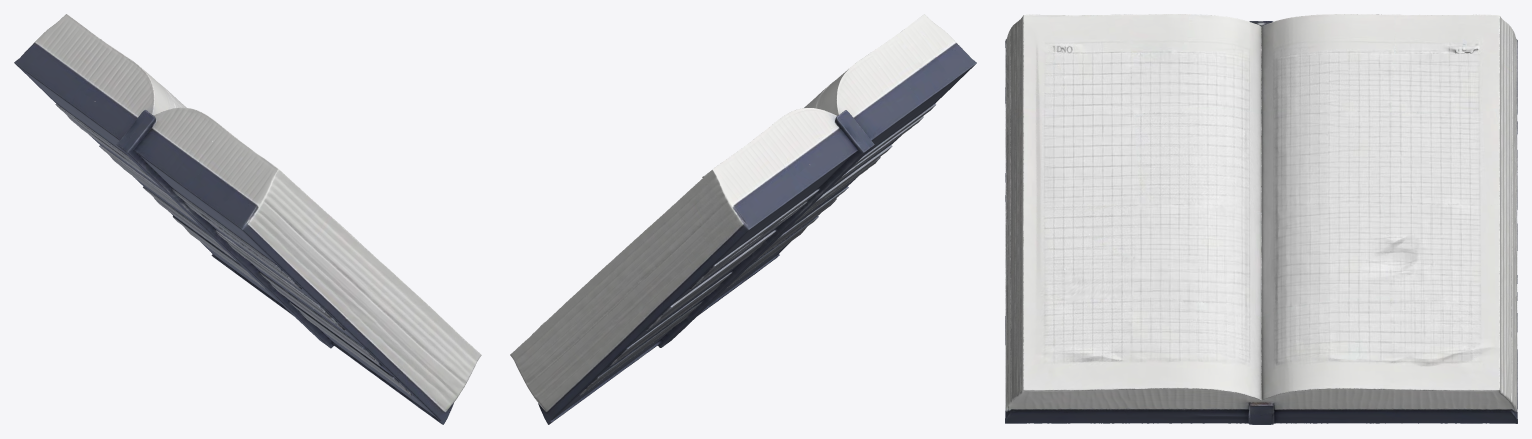
Rendered from Buku.glb.
3 views of the same model, side by side, from view 1: azimuth 30°, elevation 25°; view 2: azimuth 150°, elevation 25°; view 3: azimuth 270°, elevation 25° (orthographic). The views are drawn at different scales.
Visible parts, largest first — view 1: tripo_node_24f8f3da-1403-479b-bd2b-402763150277; view 2: tripo_node_24f8f3da-1403-479b-bd2b-402763150277; view 3: tripo_node_24f8f3da-1403-479b-bd2b-402763150277.
Part boxes in pixels (x1,y1,x2,y2): tripo_node_24f8f3da-1403-479b-bd2b-402763150277: [14, 14, 481, 424]; tripo_node_24f8f3da-1403-479b-bd2b-402763150277: [510, 14, 976, 424]; tripo_node_24f8f3da-1403-479b-bd2b-402763150277: [1005, 14, 1517, 424].
Bounding box in the file's own units: 0.6294 × 0.685 × 0.9733.
Materials: 1 (1 with a texture image).
